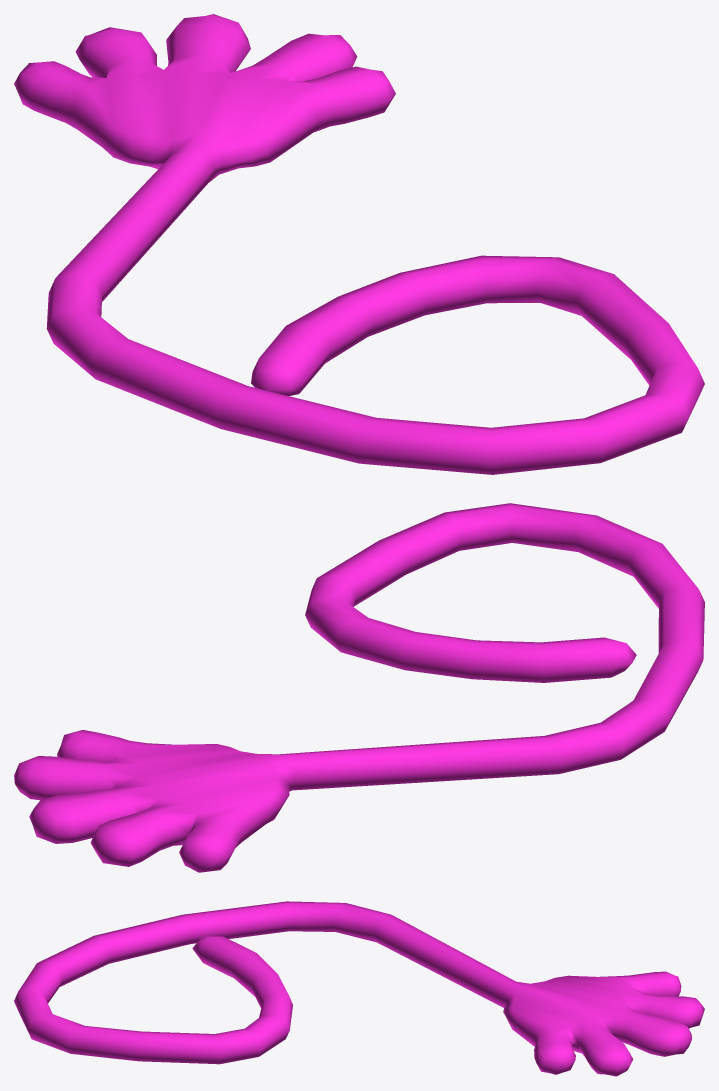
Rendered from Prize_GooeyHands_B.fbx.
The picture shows the model from 3 angles, top to bottom: view 1: azimuth 30°, elevation 25°; view 2: azimuth 150°, elevation 25°; view 3: azimuth 270°, elevation 25°; orthographic projection. The views are drawn at different scales.
Visible parts, largest first — view 1: BaytekMall_GooeyHands_B; view 2: BaytekMall_GooeyHands_B; view 3: BaytekMall_GooeyHands_B.
Part boxes in pixels (x1,y1,x2,y2): BaytekMall_GooeyHands_B: [14, 14, 704, 474]; BaytekMall_GooeyHands_B: [14, 503, 704, 872]; BaytekMall_GooeyHands_B: [14, 901, 704, 1076].
Size of the model in its own units: 18.68 by 1.38 by 34.15.
